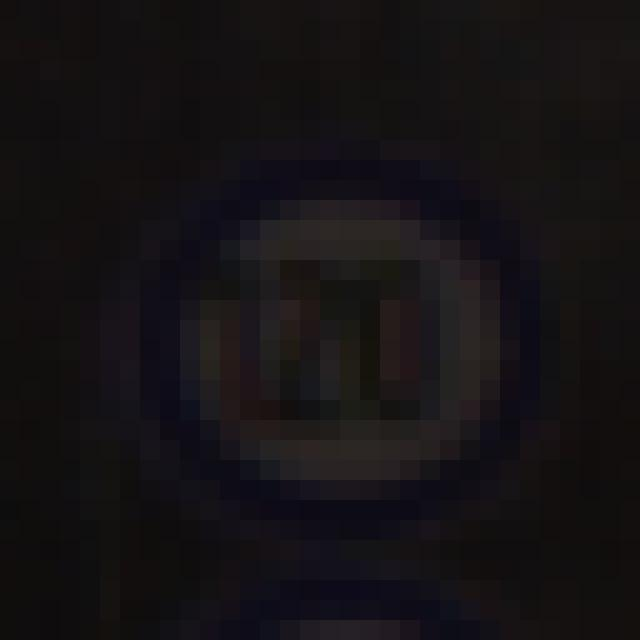SPEED LIMIT 120: (152, 185, 522, 503)
